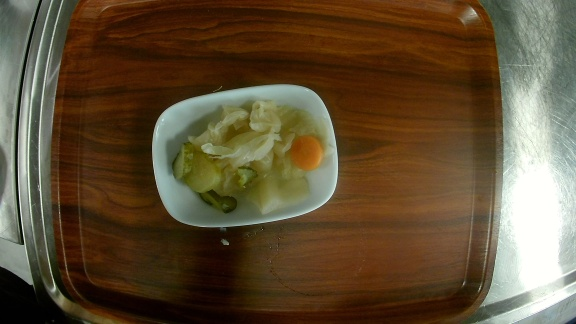tursu: (152, 83, 339, 227)
